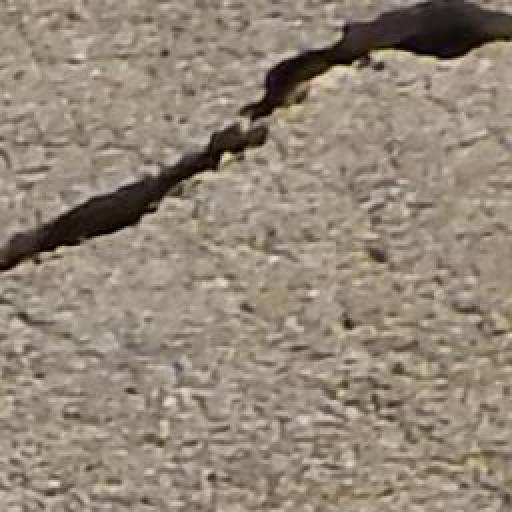spalling: (2, 3, 511, 289)
